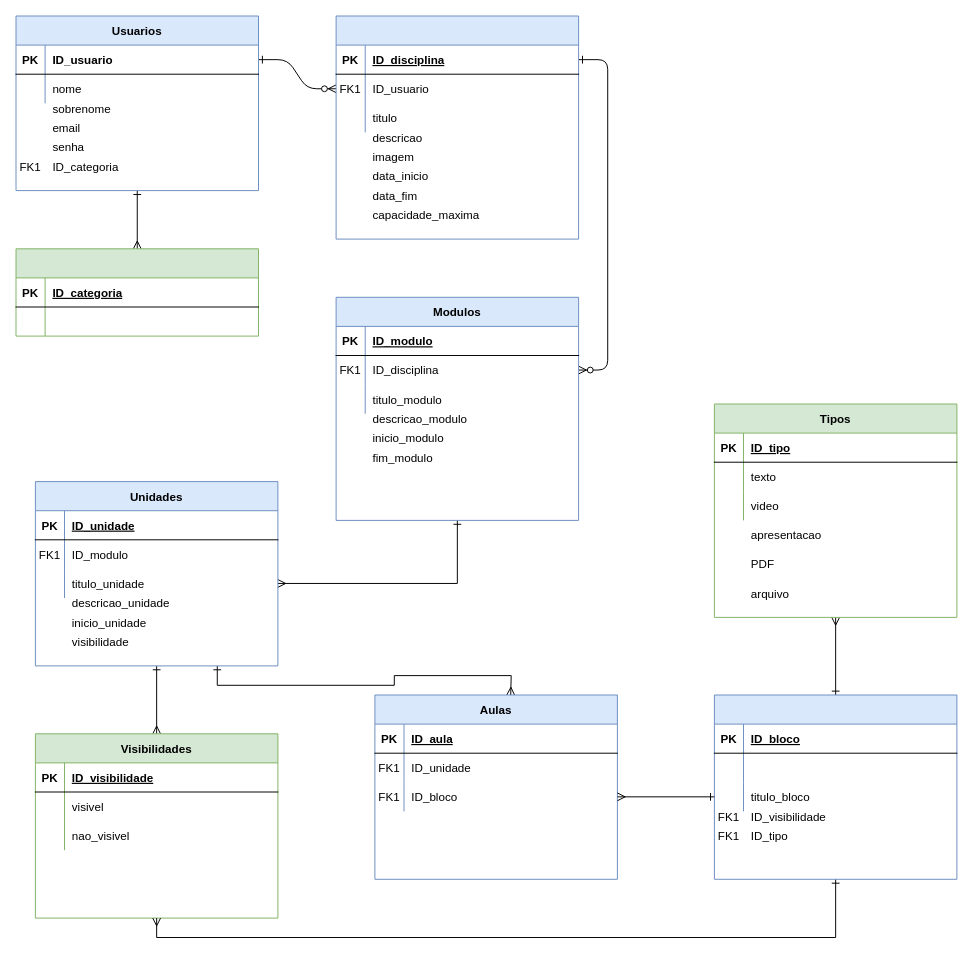
This 973x954 diagram has some shape labels left out. The shapes that lost their labels are listed below. From the top down, each one's box as (x1, y1, x2, y2) in pixels, then its label:
(335, 15, 579, 239): Disciplinas
(15, 248, 259, 336): Categorias
(713, 694, 957, 879): Blocos
